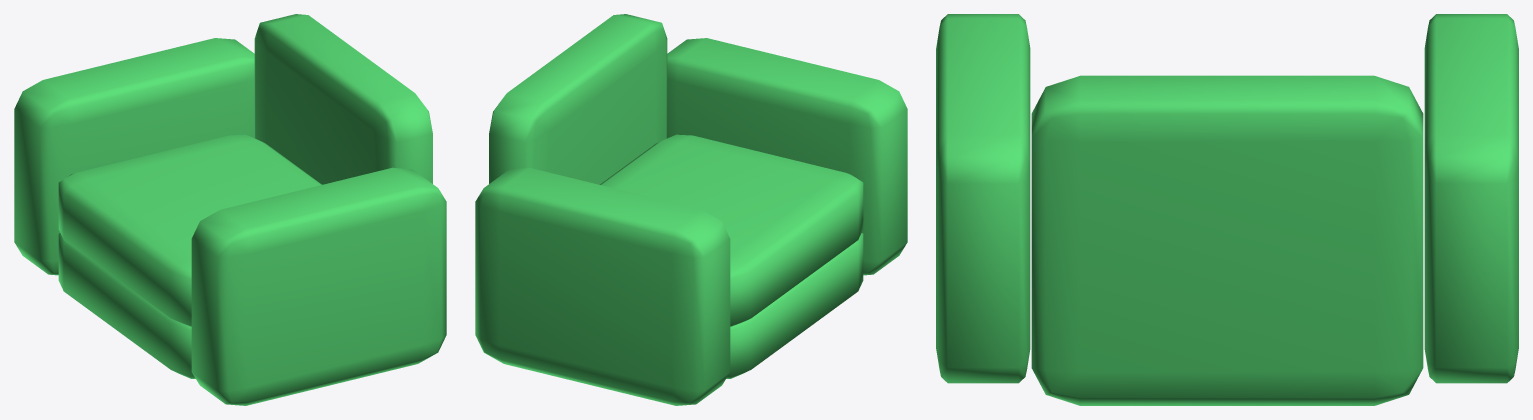
The model's file is y_koltuk.obj.
3 views of the same model, side by side, from view 1: azimuth 30°, elevation 25°; view 2: azimuth 150°, elevation 25°; view 3: azimuth 270°, elevation 25° (orthographic). The views are drawn at different scales.
Visible parts, largest first — view 1: Cube.139_m_yeşil; view 2: Cube.139_m_yeşil; view 3: Cube.139_m_yeşil.
Boxes of the visible parts, x1,y1,x2,y2 form: Cube.139_m_yeşil: (14,14,446,405); Cube.139_m_yeşil: (475,14,907,405); Cube.139_m_yeşil: (936,14,1518,405).
Size of the model in its own units: 10.21 by 8.69 by 14.84.
